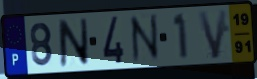1: (171, 12, 192, 62)
4: (101, 15, 125, 67)
8: (29, 21, 55, 68)
N: (127, 11, 162, 66), (57, 17, 91, 69)
V: (196, 8, 230, 62)
